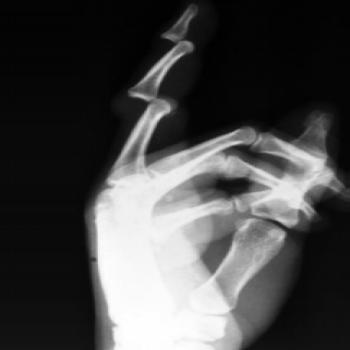Fracture: (114, 88, 188, 110), (154, 29, 193, 50)
